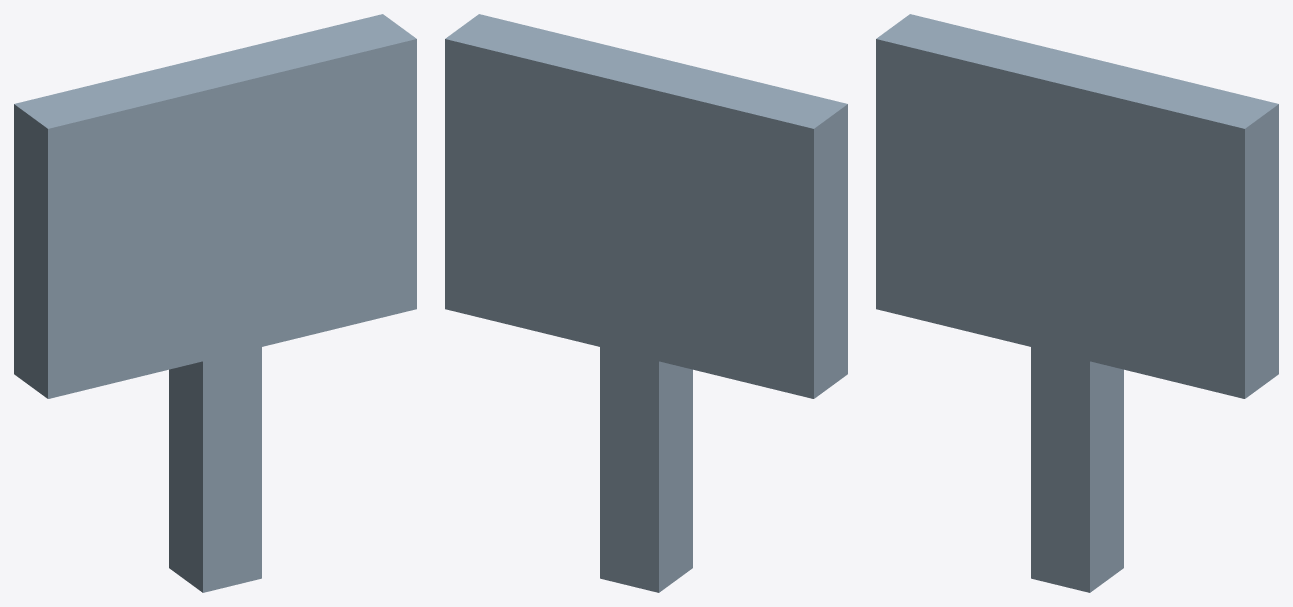
Rendered from hero.glb.
3 views of the same model, side by side, from view 1: azimuth 30°, elevation 25°; view 2: azimuth 150°, elevation 25°; view 3: azimuth 330°, elevation 25° (orthographic).
Parts seen in each view (by area): view 1: generic_hero; view 2: generic_hero; view 3: generic_hero.
Part boxes in pixels (x1,y1,x2,y2): generic_hero: (14, 14, 416, 592); generic_hero: (445, 14, 847, 592); generic_hero: (876, 14, 1278, 592).
Bounding box in the file's own units: 0.5 × 0.65 × 0.08.
